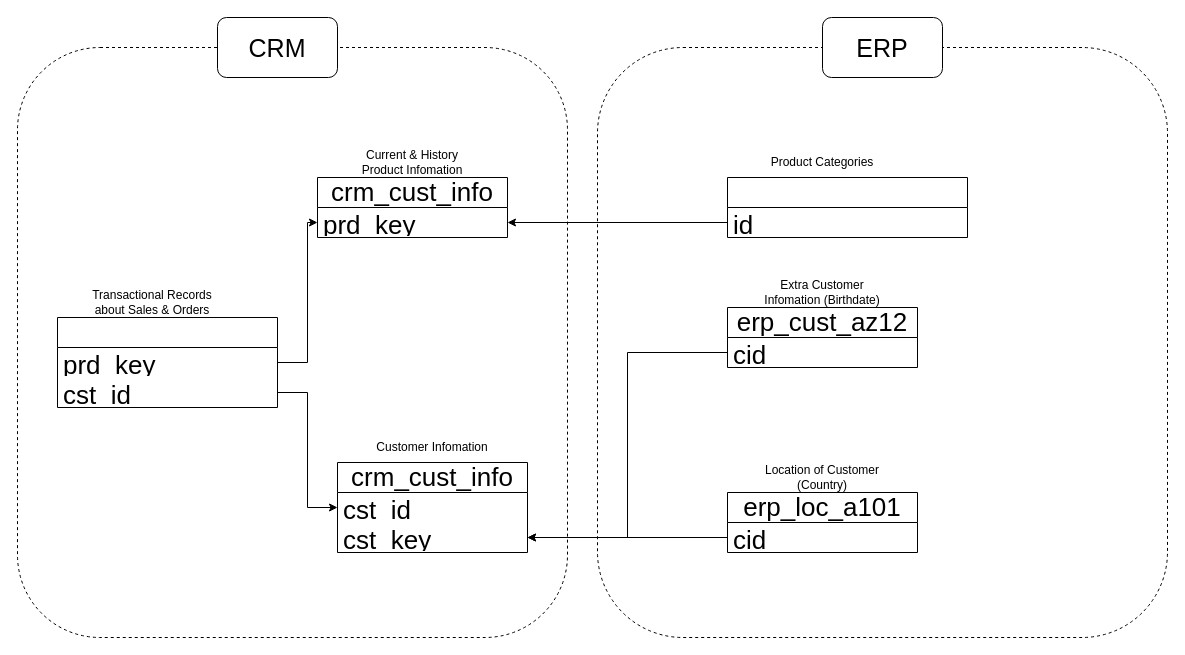
Some shapes in this 1185 by 655 pixel diagram are drawn without their labels. The box of each missing label's shape, as (x1, y1, x2, y2) in pixels:
crm_sales_detail: (56, 316, 278, 408)
erp_px_cat_g1v2: (726, 176, 968, 238)
